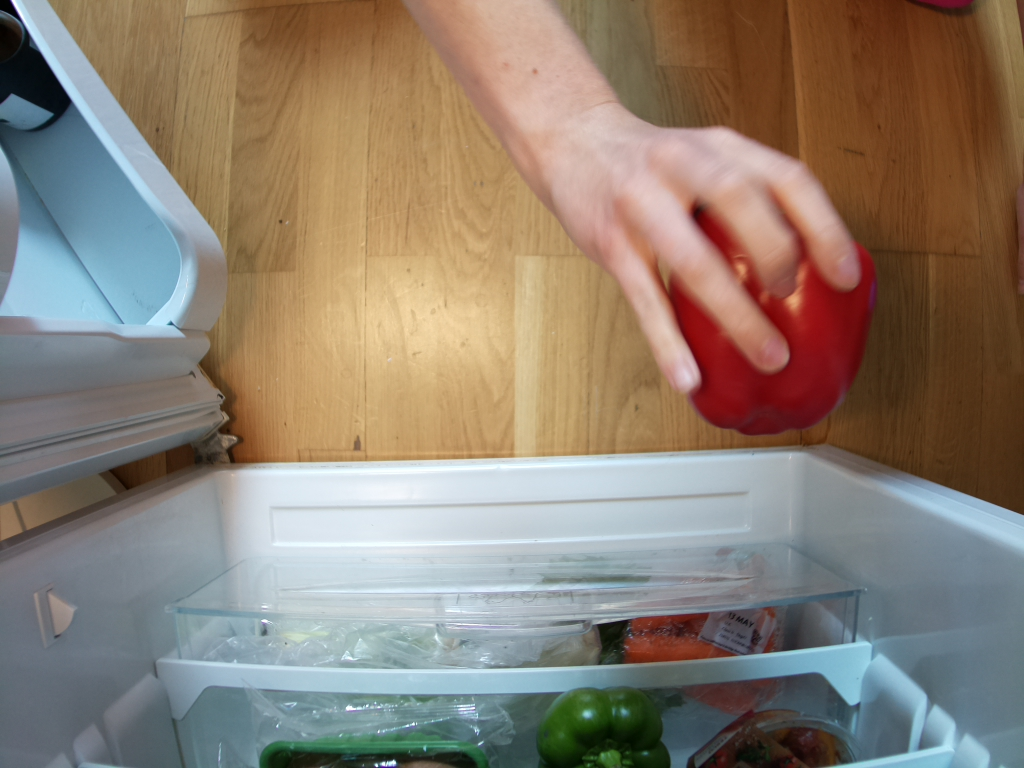pepper: (667, 203, 877, 437), (535, 689, 671, 768)
